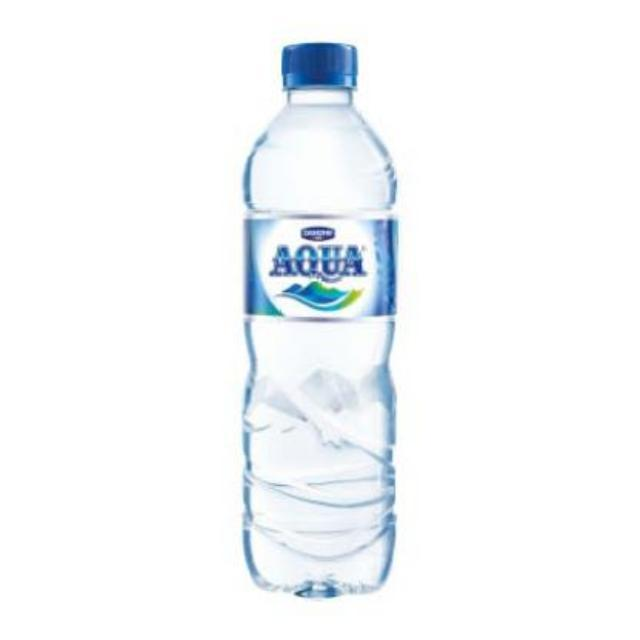bottle: (239, 41, 401, 602)
